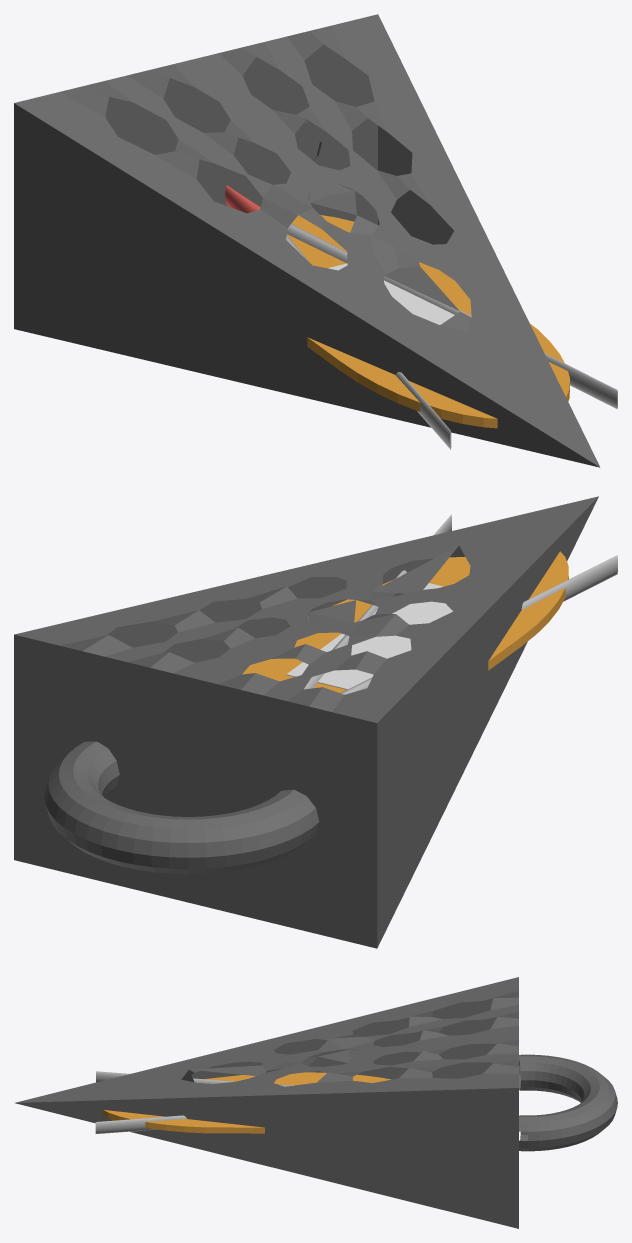
The model's file is NewTools.fbx.
3 views of the same model, one above another, from view 1: azimuth 30°, elevation 25°; view 2: azimuth 150°, elevation 25°; view 3: azimuth 270°, elevation 25° (orthographic). The views are drawn at different scales.
Visible parts, largest first — view 1: KäseReibe, Pflaster, Tweezers; view 2: KäseReibe, Pflaster, Tweezers; view 3: KäseReibe, Pflaster, Tweezers.
Part boxes in pixels (x1=…): KäseReibe: x1=14, y1=14, x2=600, y2=467; Pflaster: x1=287, y1=215, x2=569, y2=428; Tweezers: x1=225, y1=185, x2=617, y2=449; KäseReibe: x1=14, y1=496, x2=598, y2=948; Pflaster: x1=242, y1=551, x2=568, y2=692; Tweezers: x1=304, y1=514, x2=617, y2=694; KäseReibe: x1=15, y1=977, x2=617, y2=1228; Pflaster: x1=103, y1=1072, x2=391, y2=1133; Tweezers: x1=95, y1=1071, x2=291, y2=1133.
Bounding box in the file's own units: 200 × 121 × 460.
